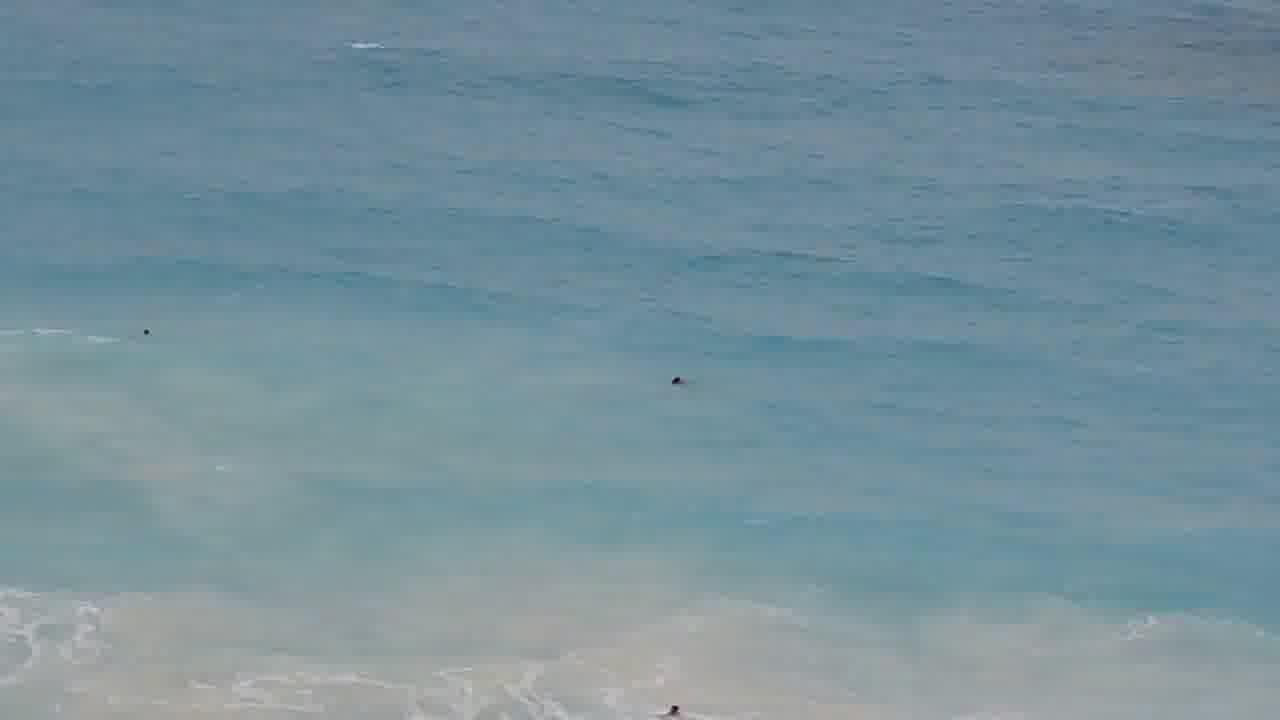human: (653, 691, 707, 720), (652, 366, 695, 397), (131, 321, 169, 338)
